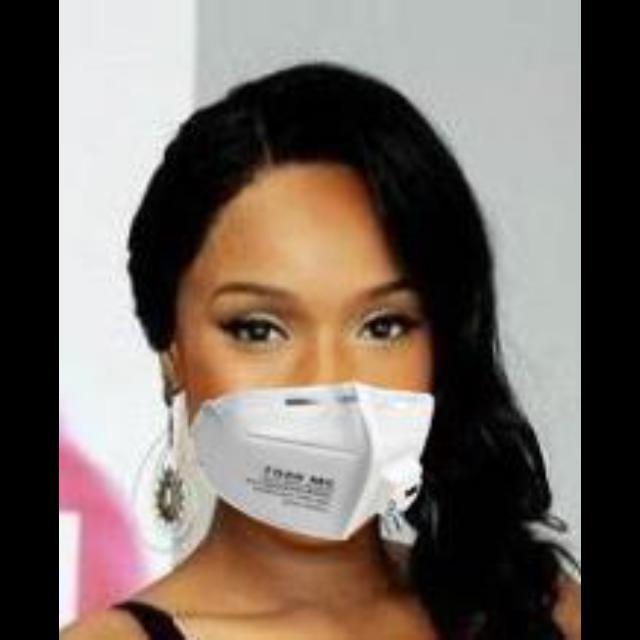suspicion: (134, 164, 474, 548)
